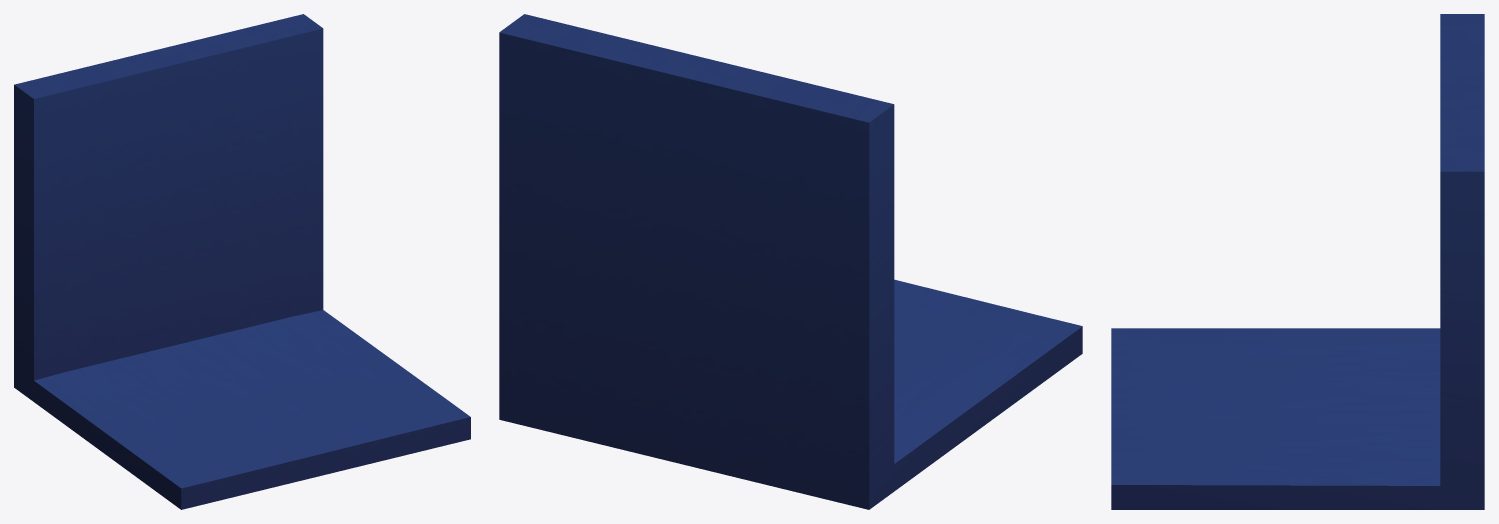
Rendered from hole3.fbx.
3 renders of one model, left to right at view 1: azimuth 30°, elevation 25°; view 2: azimuth 150°, elevation 25°; view 3: azimuth 270°, elevation 25°, orthographic. The views are drawn at different scales.
Parts seen in each view (by area): view 1: pCube196; view 2: pCube196; view 3: pCube196.
Boxes of the visible parts, bbox=[...] form: pCube196: bbox=[14, 14, 470, 509]; pCube196: bbox=[499, 14, 1082, 509]; pCube196: bbox=[1111, 14, 1484, 509].
Size of the model in its own units: 100 by 100 by 100.
